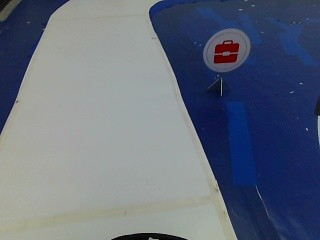company: (201, 31, 246, 74)
